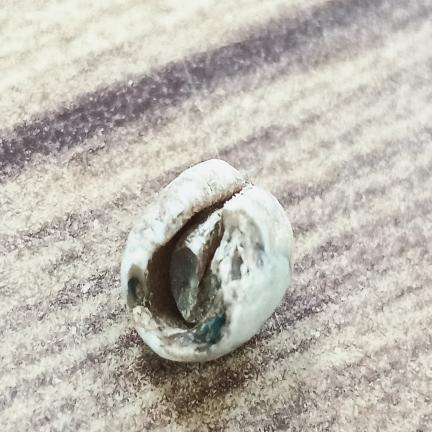broken: (121, 159, 293, 361)
